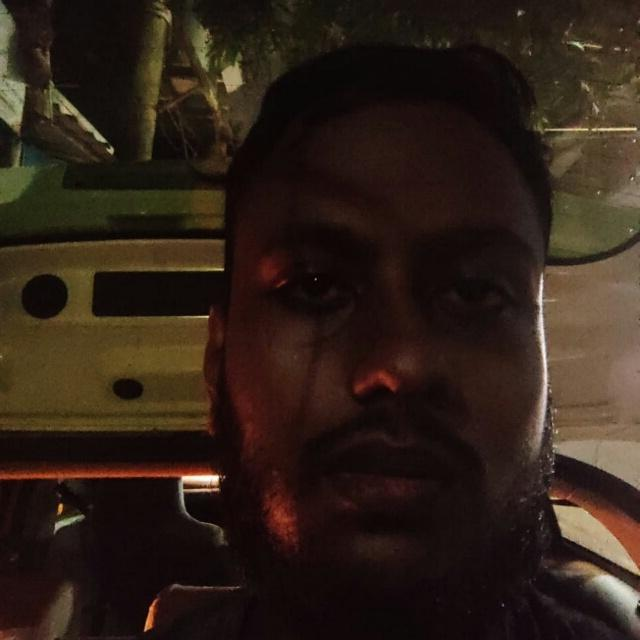Sad: (173, 42, 616, 601)
